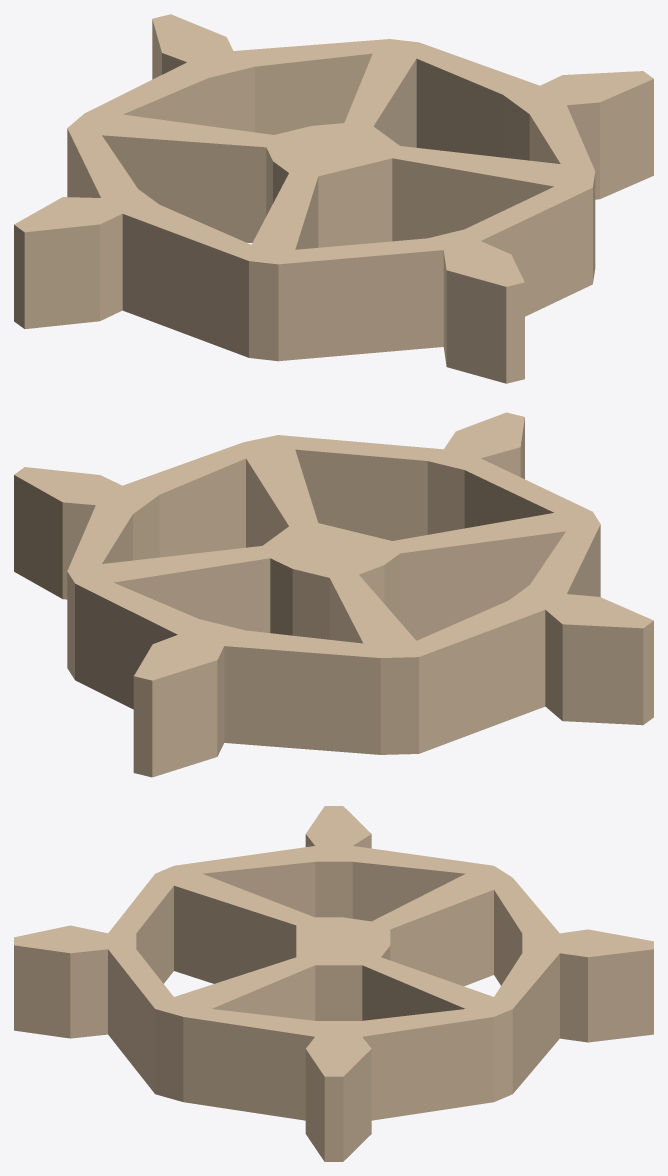
File: inv_talisman_of_zaros.obj
3 views of the same model, one above another, from view 1: azimuth 30°, elevation 25°; view 2: azimuth 150°, elevation 25°; view 3: azimuth 270°, elevation 25° (orthographic). The views are drawn at different scales.
Size of the model in its own units: 0.5312 by 0.0781 by 0.5312.
